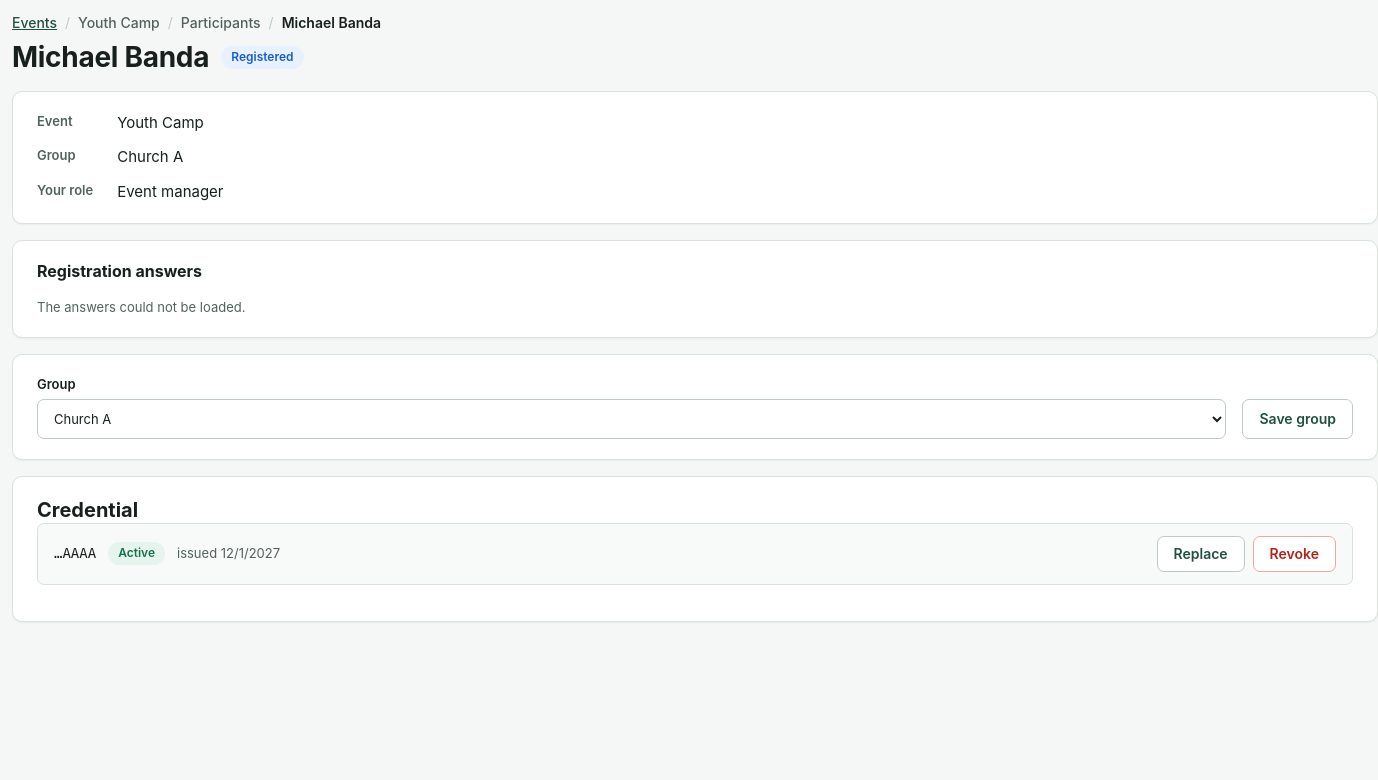
Test case: ParticipantDetailPage › revokes a credential and removes the pass from the screen
Click the button "Revoke": (1294, 554) top-left (1253, 536), bottom-right (1336, 572)
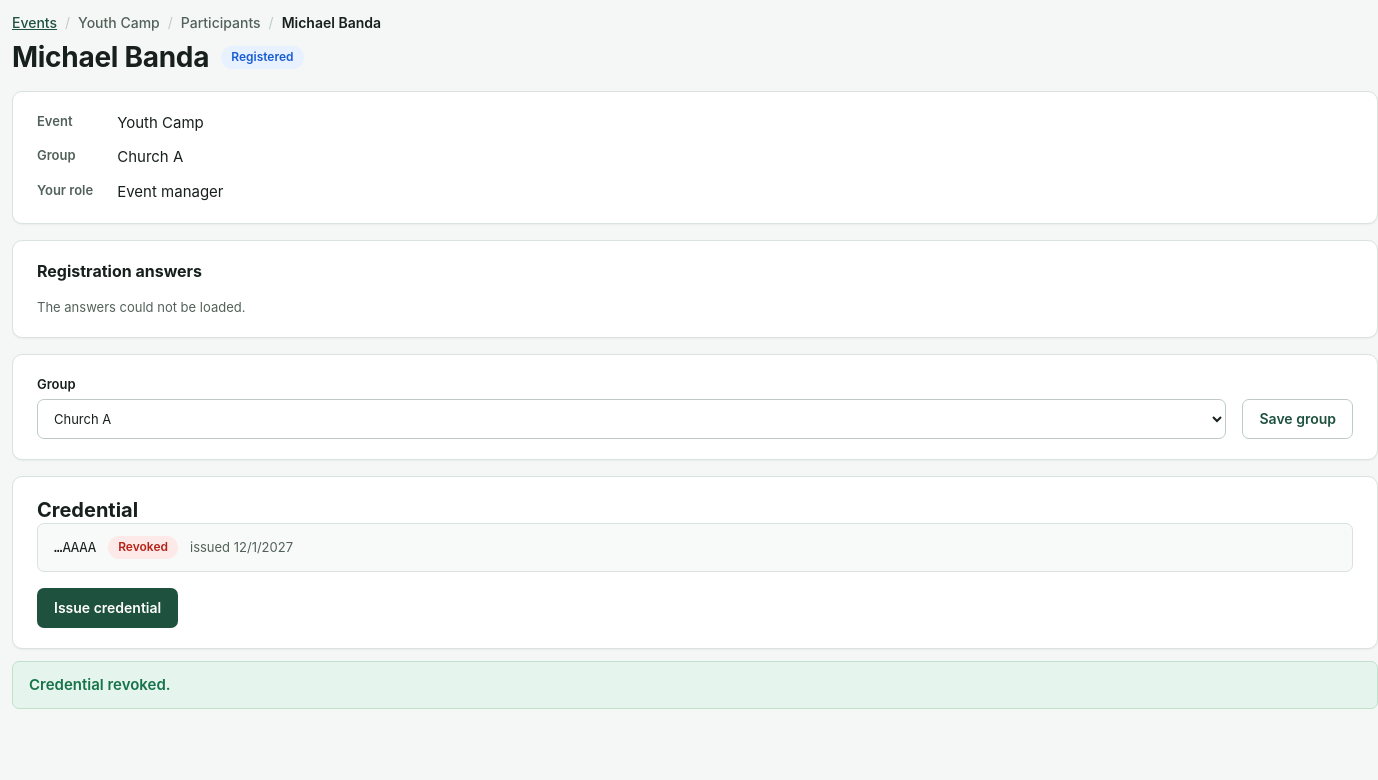
Result: the text "Credential revoked." is shown at top-left (12, 661), bottom-right (1377, 709)
Result: the button "Issue credential" is shown at top-left (37, 588), bottom-right (178, 628)
